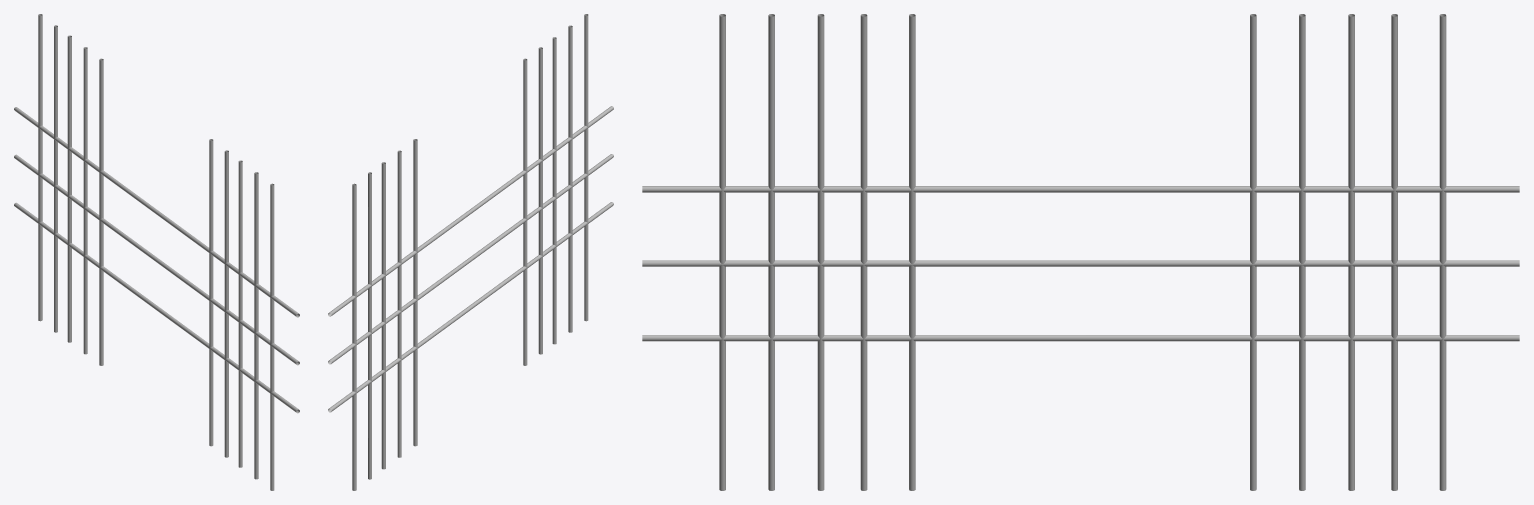
Rendered from window_rebar.fbx.
3 views of the same model, side by side, from view 1: azimuth 30°, elevation 25°; view 2: azimuth 150°, elevation 25°; view 3: azimuth 270°, elevation 25° (orthographic). The views are drawn at different scales.
Parts seen in each view (by area): view 1: window_rebar; view 2: window_rebar; view 3: window_rebar.
Part boxes in pixels (box(x1,y1,x2,y2)): window_rebar: box(14, 14, 299, 490); window_rebar: box(328, 14, 613, 490); window_rebar: box(642, 14, 1519, 490).
Size of the model in its own units: 1.9 by 157 by 264.
